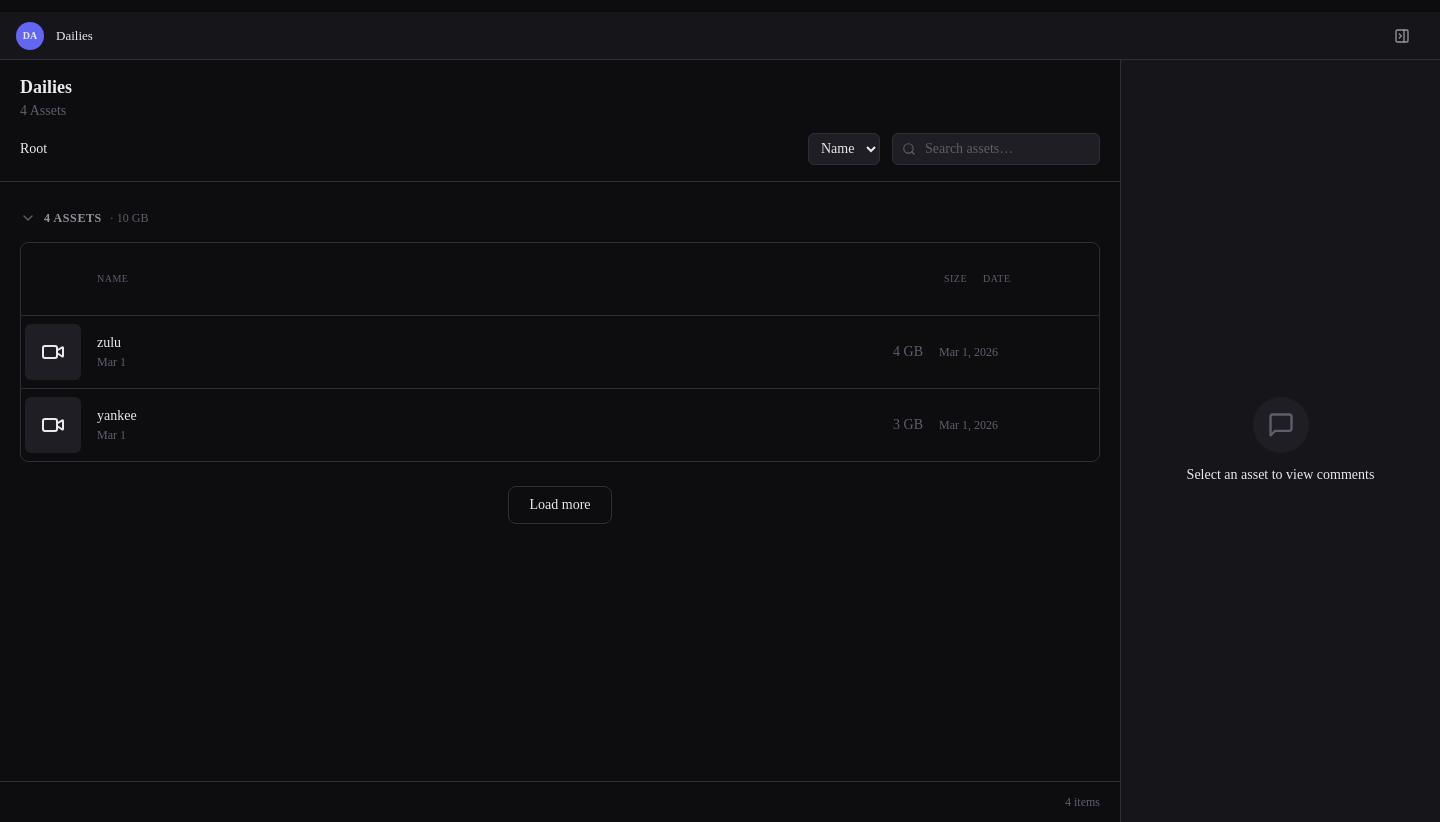
it: counts and size describe the link, not the loaded page › a search narrows the count to the matches on screen
The width and height of the screenshot is (1440, 822).
Expected: the text "zulu" is shown, [97,335,121,350]
Type "zulu" into the field with placeholder "Search assets…" at (996, 148), box [892,132,1100,164]
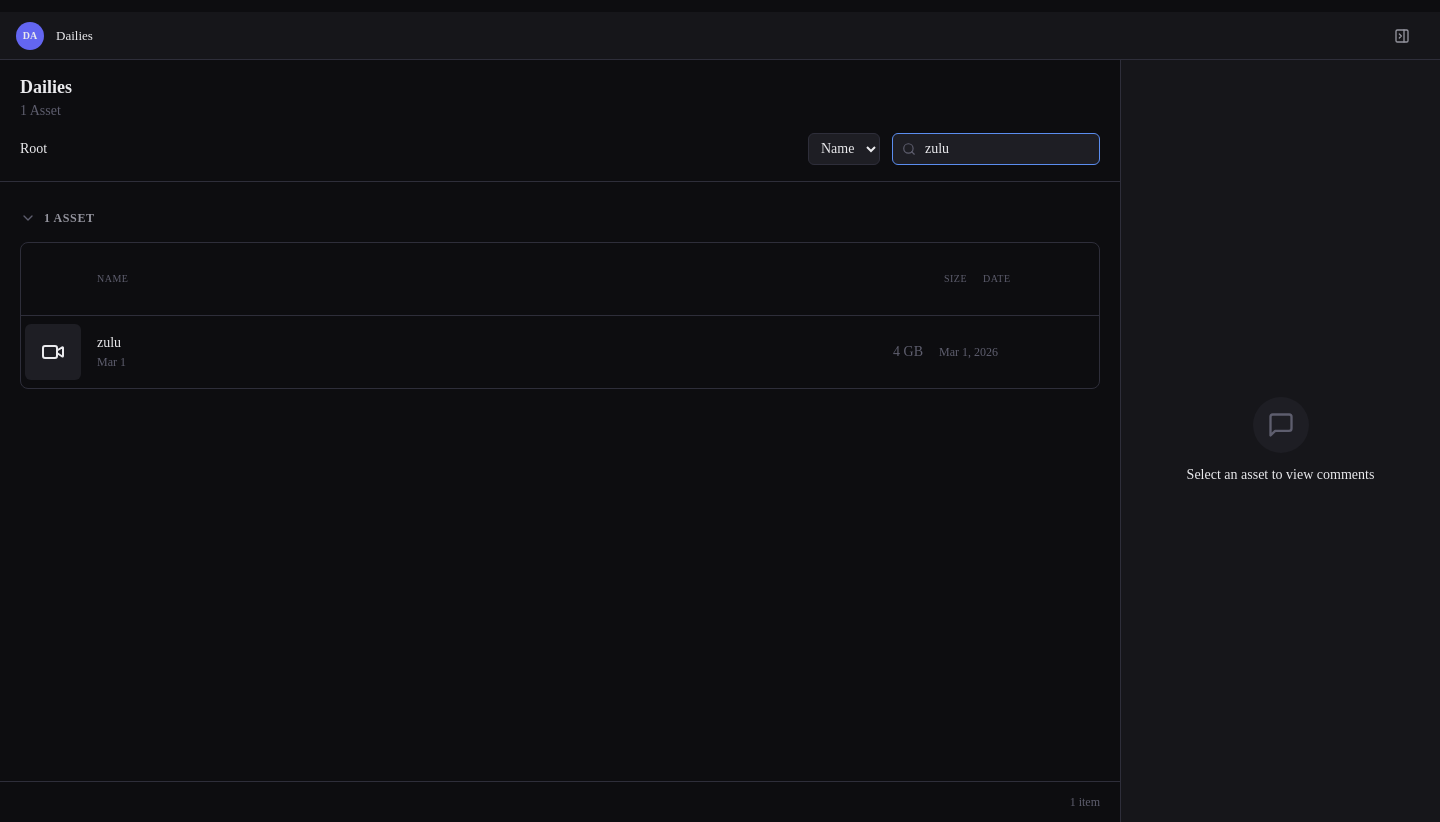
Result: the 1st text "1 Asset" is shown at [20,102,61,118]
Result: the text "4 Assets" is gone
